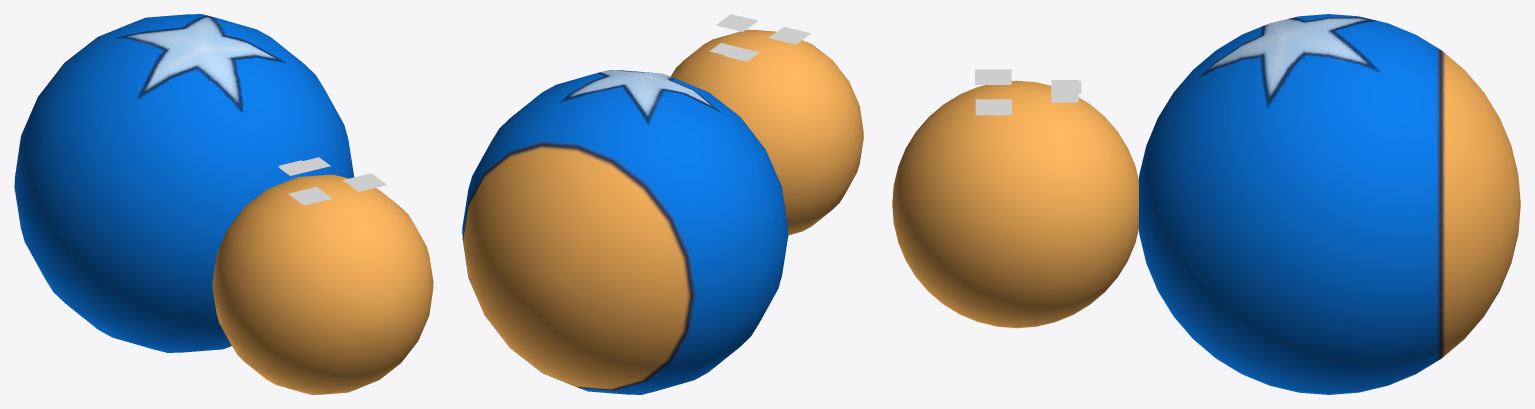
Rendered from BuddyModel.fbx.
3 views of the same model, side by side, from view 1: azimuth 30°, elevation 25°; view 2: azimuth 150°, elevation 25°; view 3: azimuth 270°, elevation 25° (orthographic). The views are drawn at different scales.
Parts seen in each view (by area): view 1: body, head, Aniamation mat, Spine GameObject (skeleton); view 2: body, head, Aniamation mat, Spine GameObject (skeleton); view 3: body, head, Aniamation mat, Spine GameObject (skeleton).
Part boxes in pixels (x1,y1,x2,y2): body: (14, 14, 354, 352); head: (212, 174, 433, 394); Aniamation mat: (288, 173, 386, 205); Spine GameObject (skeleton): (278, 157, 330, 175); body: (462, 70, 788, 394); head: (671, 29, 863, 235); Aniamation mat: (716, 14, 810, 44); Spine GameObject (skeleton): (709, 43, 759, 61); body: (1139, 14, 1520, 394); head: (892, 80, 1138, 328); Aniamation mat: (975, 69, 1011, 115); Spine GameObject (skeleton): (1051, 80, 1081, 102).
Bounding box in the file's own units: 0.7 × 0.7 × 1.15.
Materials: 4 (2 with a texture image).
